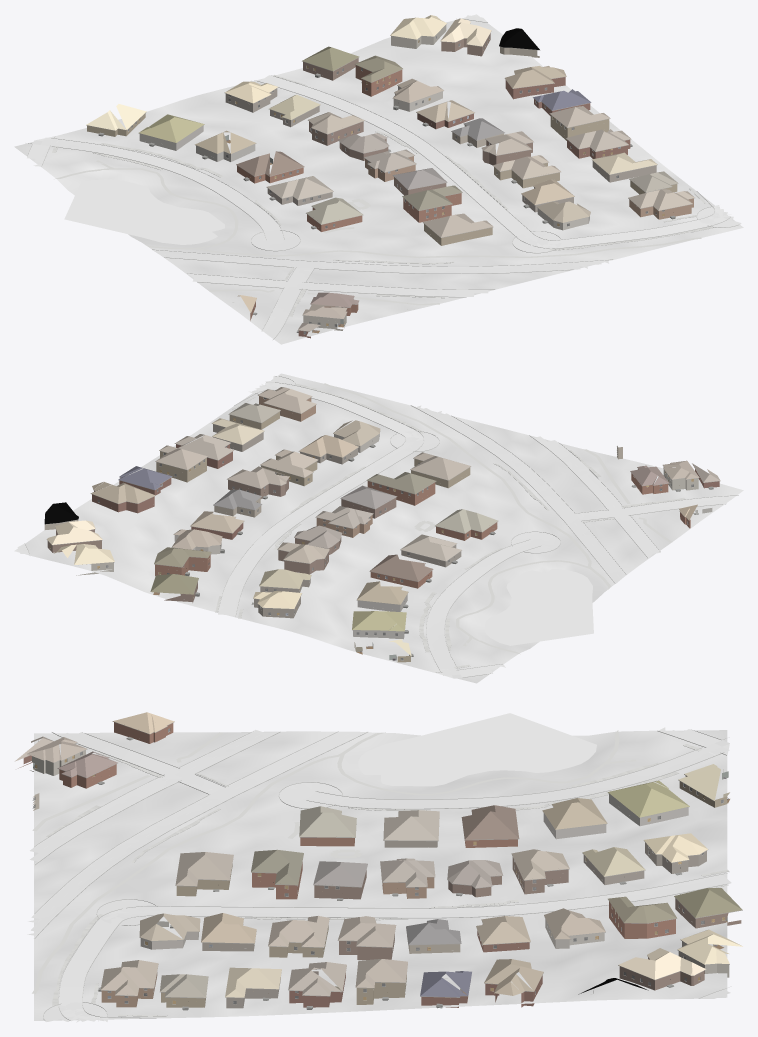
The picture shows the model from 3 angles, top to bottom: view 1: azimuth 30°, elevation 25°; view 2: azimuth 150°, elevation 25°; view 3: azimuth 270°, elevation 25°; orthographic projection. The views are drawn at different scales.
Visible parts, largest first — view 1: ground, roof, wall, concrete, water, asphalt, walk, curb, detail, wall_stucco, wall_stone; view 2: ground, roof, wall, concrete, water, asphalt, walk, curb, detail, wall_stucco, wall_stone, glass; view 3: ground, roof, concrete, wall, water, asphalt, walk, curb, detail, wall_stucco, wall_stone, glass.
Boxes of the visible parts, x1,y1,x2,y2 form: ground: [14, 14, 743, 344]; roof: [86, 15, 694, 331]; wall: [87, 33, 693, 338]; concrete: [27, 15, 741, 336]; water: [64, 179, 224, 244]; asphalt: [153, 250, 608, 296]; walk: [52, 75, 713, 316]; curb: [27, 18, 740, 339]; detail: [86, 23, 694, 334]; wall_stucco: [303, 25, 589, 330]; wall_stone: [139, 125, 255, 161]; ground: [14, 373, 743, 683]; roof: [44, 387, 720, 656]; wall: [44, 396, 719, 662]; concrete: [17, 376, 731, 678]; water: [484, 568, 593, 645]; asphalt: [416, 405, 660, 583]; walk: [215, 383, 684, 668]; curb: [24, 376, 738, 678]; detail: [45, 395, 720, 660]; wall_stucco: [76, 434, 698, 575]; wall_stone: [353, 589, 407, 639]; glass: [97, 397, 693, 660]; ground: [34, 730, 727, 1020]; roof: [14, 712, 742, 997]; concrete: [43, 727, 731, 1022]; wall: [18, 722, 741, 1008]; water: [358, 713, 596, 786]; asphalt: [27, 730, 366, 935]; walk: [32, 730, 728, 1016]; curb: [34, 729, 731, 1020]; detail: [28, 721, 742, 1010]; wall_stucco: [30, 743, 729, 977]; wall_stone: [543, 794, 688, 839]; glass: [33, 728, 723, 1004].
Size of the model in its own units: 271 by 21.07 by 263.
